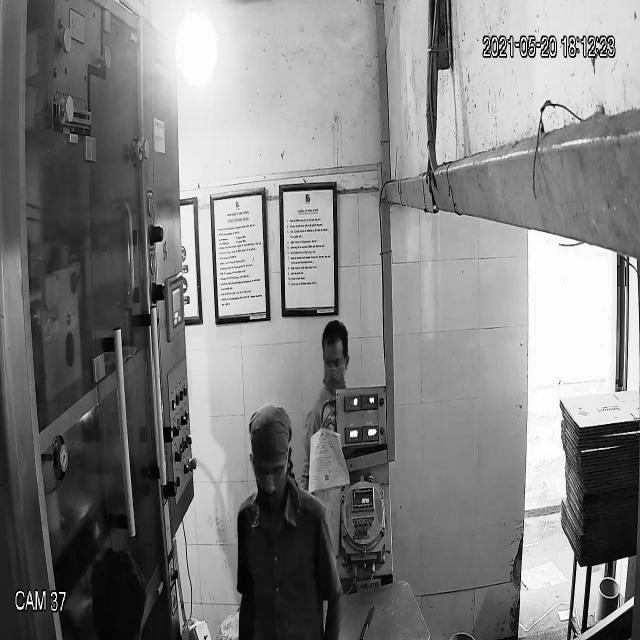glasses: (248, 453, 292, 490)
no-glass: (320, 348, 350, 374)
